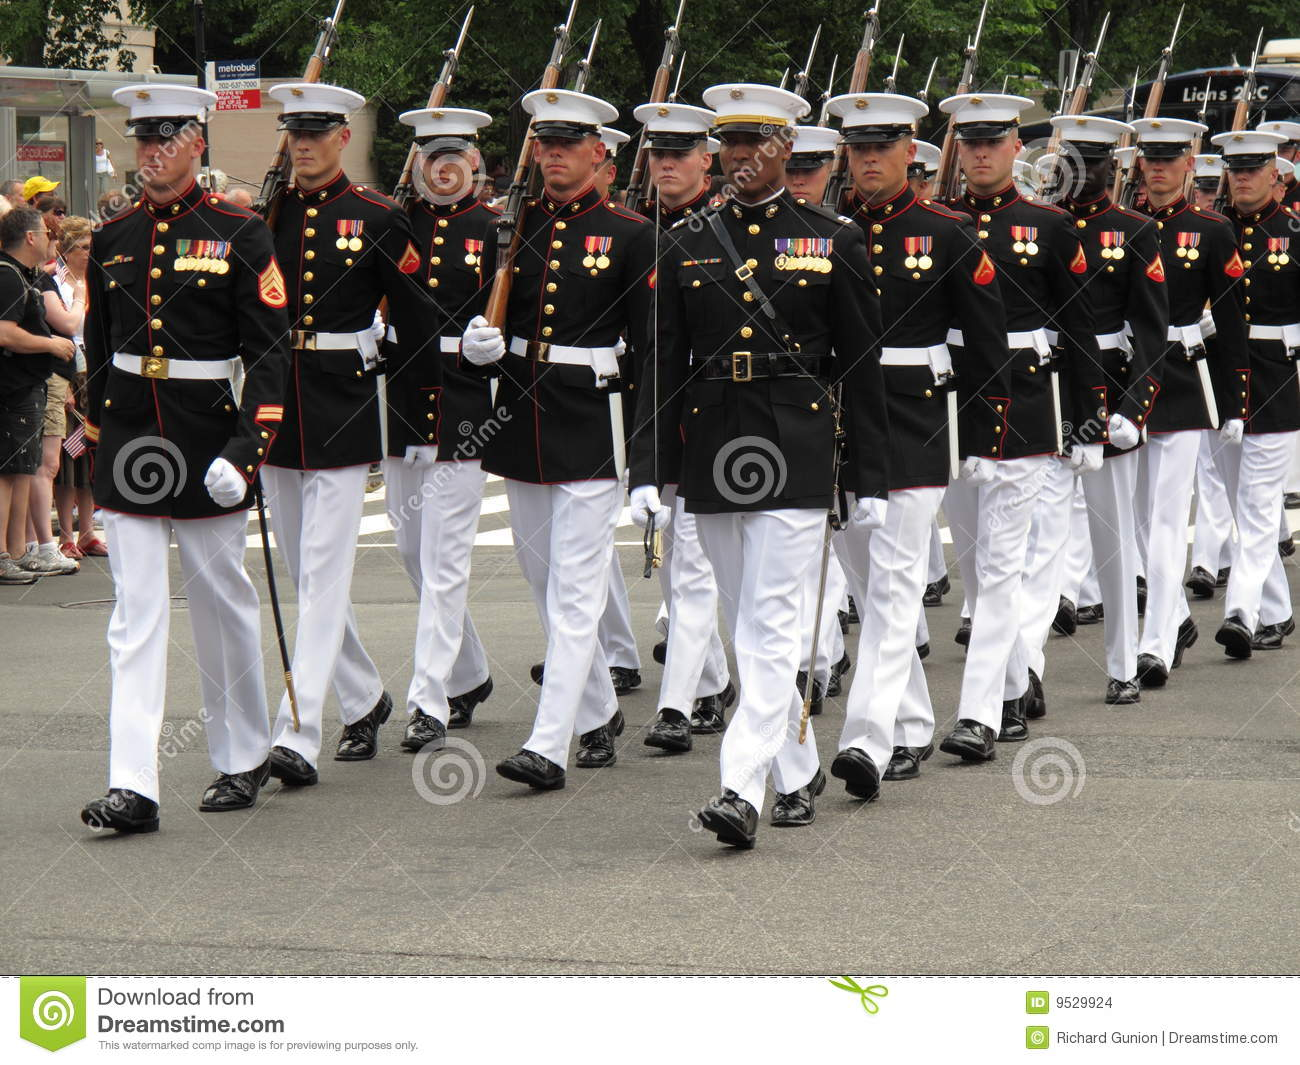feet: (70, 740, 282, 838), (250, 693, 402, 786), (705, 749, 832, 857), (490, 707, 628, 788), (395, 666, 505, 749), (830, 723, 940, 803), (532, 645, 653, 710), (635, 676, 734, 754), (939, 676, 1027, 761), (1097, 620, 1172, 714), (1215, 594, 1300, 661), (1184, 553, 1251, 603), (1, 540, 60, 589), (51, 523, 121, 563), (28, 529, 79, 580)
